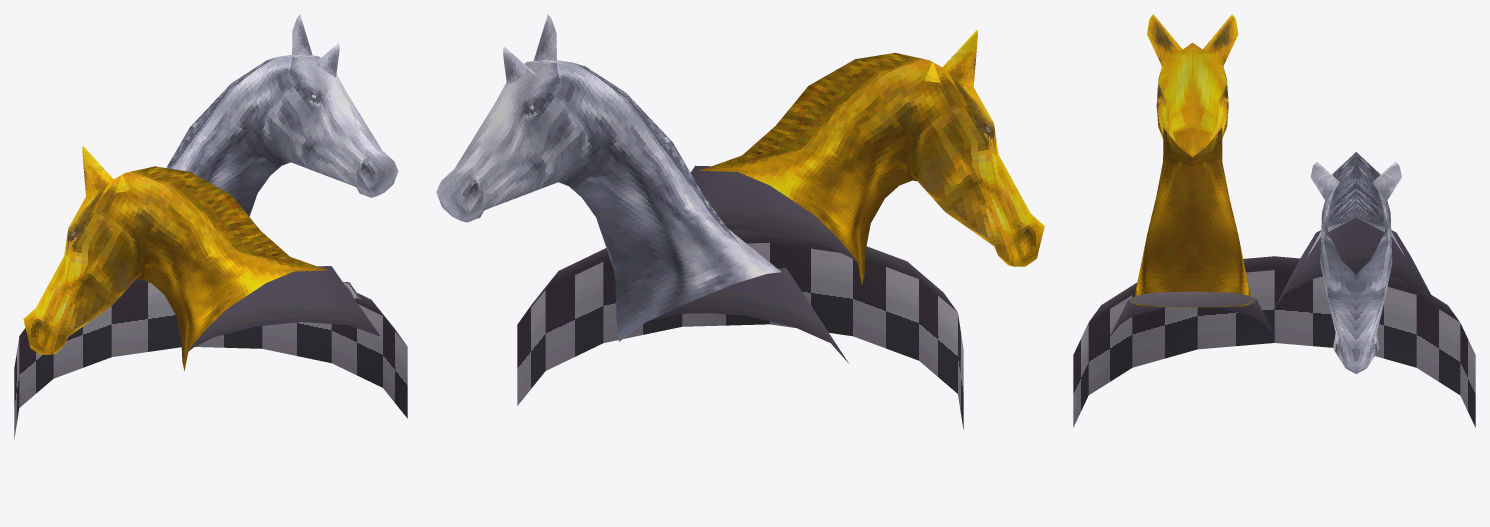
The model's file is ps2_save-icons_winningpost5maximum2003-dreammode.glb.
3 renders of one model, left to right at view 1: azimuth 30°, elevation 25°; view 2: azimuth 150°, elevation 25°; view 3: azimuth 270°, elevation 25°, orthographic. The views are drawn at different scales.
Parts seen in each view (by area): view 1: ic_dream.icn; view 2: ic_dream.icn; view 3: ic_dream.icn.
Boxes of the visible parts, left/top/right/bottom form: ic_dream.icn: left=14, top=14, right=407, bottom=438; ic_dream.icn: left=436, top=14, right=1044, bottom=429; ic_dream.icn: left=1073, top=14, right=1475, bottom=427.
Bounding box in the file's own units: 4.5 × 3.23 × 3.46.
Materials: 1 (1 with a texture image).
